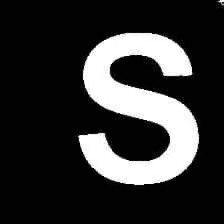LTR_S: (70, 21, 206, 193)
